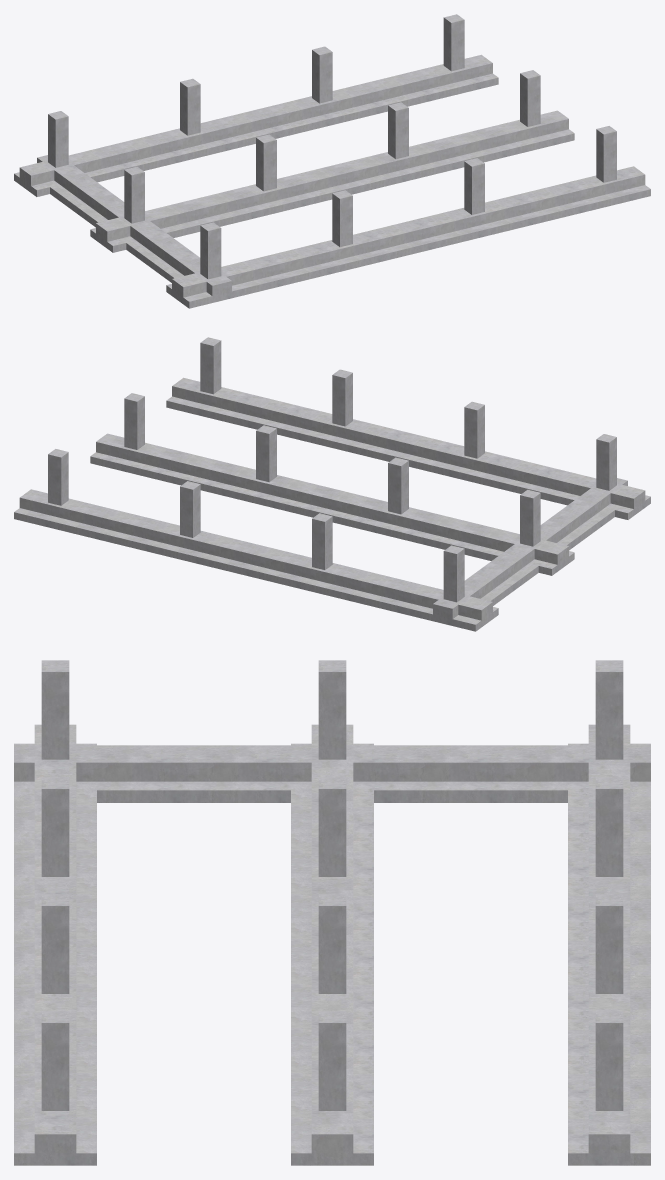
Rendered from column-strip.glb.
The picture shows the model from 3 angles, top to bottom: view 1: azimuth 30°, elevation 25°; view 2: azimuth 150°, elevation 25°; view 3: azimuth 270°, elevation 25°; orthographic projection. The views are drawn at different scales.
Parts seen in each view (by area): view 1: 条基与近端连接梁, 柱; view 2: 条基与近端连接梁, 柱; view 3: 条基与近端连接梁, 柱.
Boxes of the visible parts, x1,y1,x2,y2 form: 条基与近端连接梁: (14,54,650,308); 柱: (48,14,616,279); 条基与近端连接梁: (14,377,650,631); 柱: (48,337,616,602); 条基与近端连接梁: (14,724,650,1165); 柱: (41,660,623,1110).
Size of the model in its own units: 14 by 1.9 by 9.2.
Materials: 2 (2 with a texture image).
